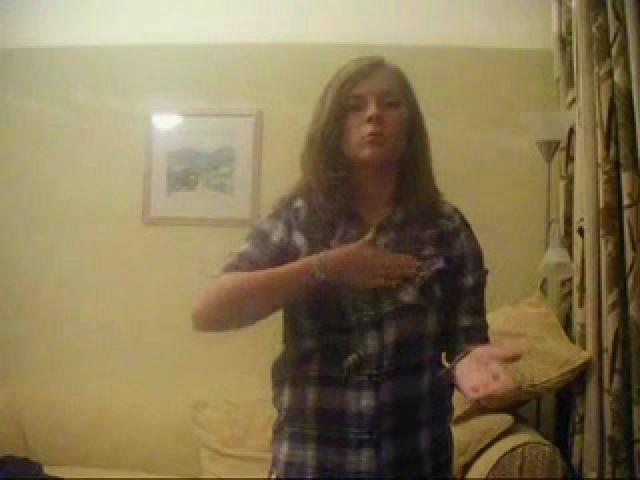F: (190, 49, 528, 480)
